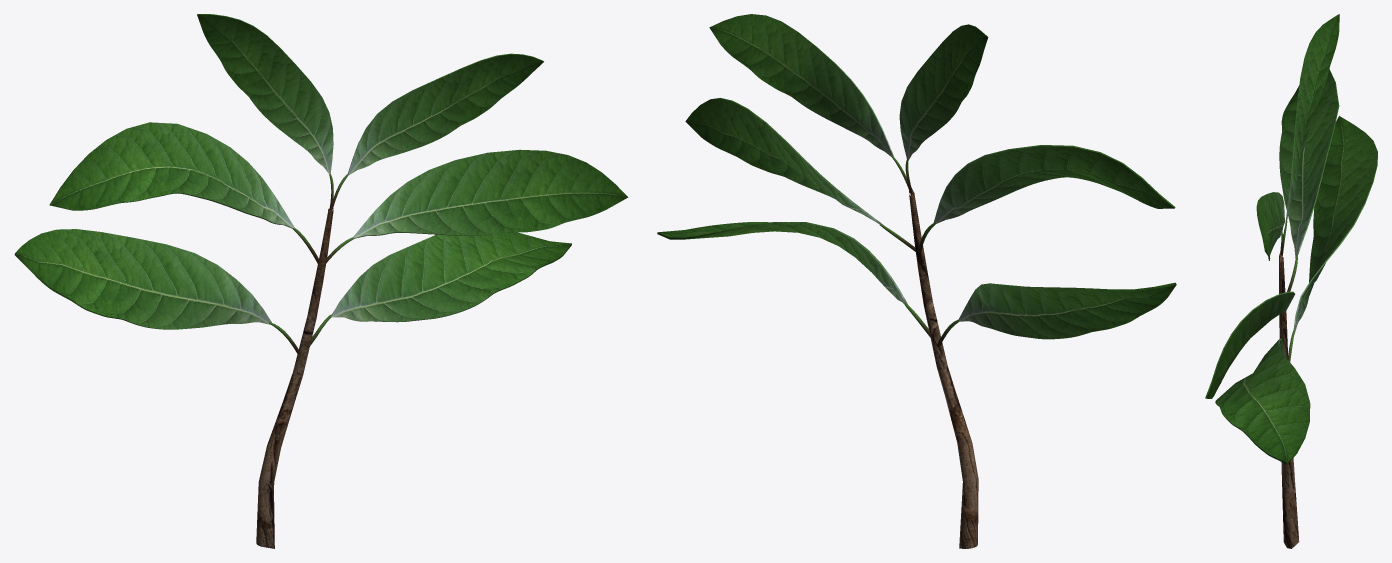
The model's file is 桃花心木葉子.glb.
3 views of the same model, side by side, from view 1: azimuth 30°, elevation 25°; view 2: azimuth 150°, elevation 25°; view 3: azimuth 270°, elevation 25° (orthographic). The views are drawn at different scales.
Parts seen in each view (by area): view 1: Line009Mesh, Line004Mesh, Line005Mesh, Line008Mesh, Line006Mesh, Line007Mesh, Object009Mesh; view 2: Line006Mesh, Line009Mesh, Line005Mesh, Line007Mesh, Line004Mesh, Object009Mesh, Line008Mesh; view 3: Line008Mesh, Line009Mesh, Line005Mesh, Line007Mesh, Line004Mesh, Object009Mesh, Line006Mesh.
Boxes of the visible parts, x1,y1,x2,y2 form: Line009Mesh: (14, 229, 298, 353); Line004Mesh: (326, 149, 628, 262); Line005Mesh: (49, 122, 318, 263); Line008Mesh: (310, 232, 571, 345); Line006Mesh: (330, 53, 543, 210); Line007Mesh: (197, 14, 333, 207); Object009Mesh: (256, 207, 333, 548); Line006Mesh: (709, 14, 909, 191); Line009Mesh: (937, 282, 1176, 347); Line005Mesh: (918, 145, 1175, 252); Line007Mesh: (899, 24, 988, 195); Line004Mesh: (685, 98, 915, 251); Object009Mesh: (909, 188, 978, 548); Line008Mesh: (657, 222, 930, 337); Line008Mesh: (1215, 338, 1310, 464); Line009Mesh: (1288, 116, 1377, 362); Line005Mesh: (1279, 69, 1339, 291); Line007Mesh: (1282, 14, 1339, 255); Line004Mesh: (1205, 291, 1295, 398); Object009Mesh: (1279, 253, 1299, 548); Line006Mesh: (1256, 192, 1284, 260).
Bounding box in the file's own units: 0.9941 × 0.9192 × 0.282.
7 materials, 7 textured.
